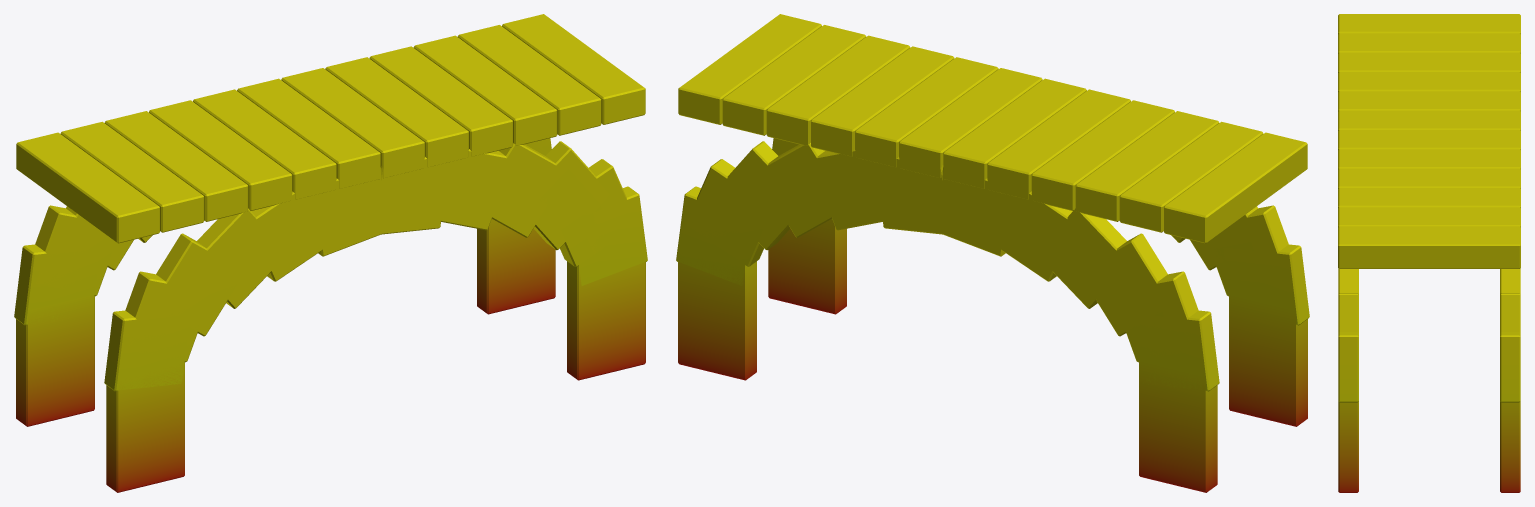
File: bridge_span.glb
3 views of the same model, side by side, from view 1: azimuth 30°, elevation 25°; view 2: azimuth 150°, elevation 25°; view 3: azimuth 270°, elevation 25° (orthographic). The views are drawn at different scales.
Parts seen in each view (by area): view 1: bridge_span; view 2: bridge_span; view 3: bridge_span.
Boxes of the visible parts, <box> form: bridge_span: <box>14,14,647,492</box>; bridge_span: <box>676,14,1309,492</box>; bridge_span: <box>1338,14,1520,492</box>.
Size of what is drawn, in the model's own units: 12.09 by 6 by 4.
